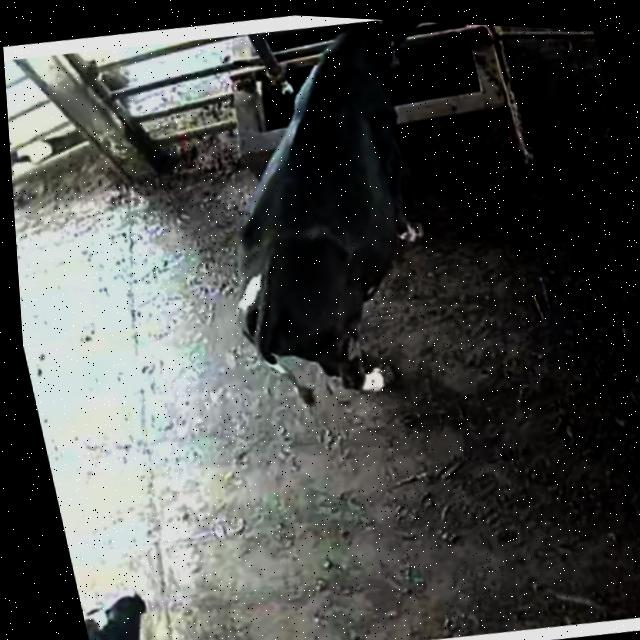drink: (219, 11, 450, 202)
